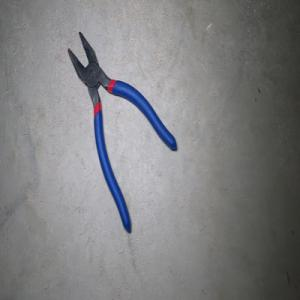Pliers: (67, 31, 177, 233)
